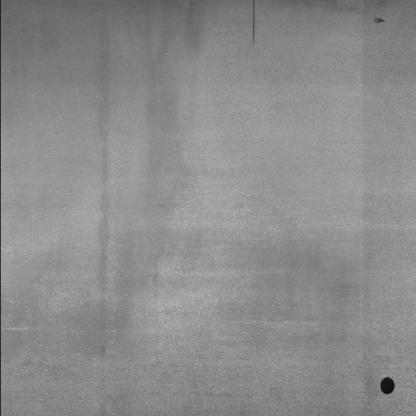crease: (244, 1, 260, 55)
oil_spot: (364, 13, 392, 27)
punching_hole: (373, 375, 402, 397)
